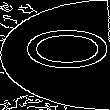O_E: (5, 34, 105, 76)
